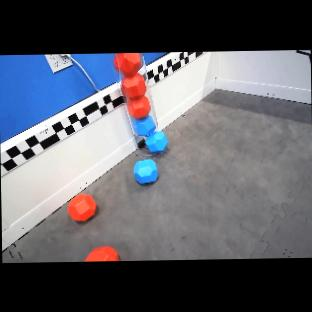V5_BLUE: (133, 115, 168, 153), (133, 159, 157, 183), (142, 174, 142, 174)
V5_RED: (113, 52, 150, 119), (67, 193, 96, 221), (84, 245, 118, 261)
